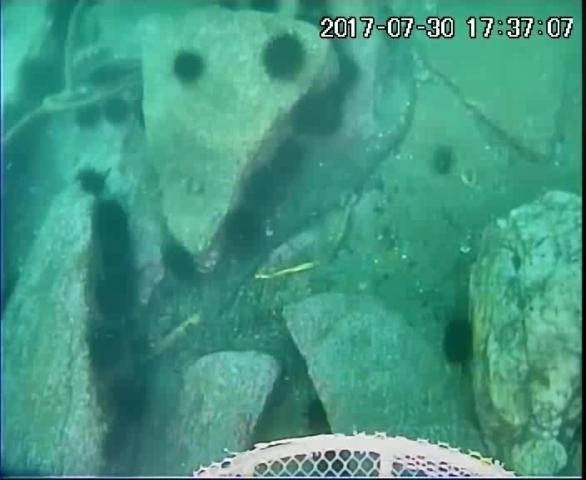echinus: (288, 88, 347, 140), (257, 31, 310, 85), (89, 266, 142, 320), (15, 54, 68, 106), (88, 199, 135, 257), (103, 374, 154, 426), (82, 324, 130, 374), (220, 205, 268, 254), (438, 313, 479, 370), (268, 136, 310, 181), (240, 166, 283, 209), (159, 241, 201, 284), (42, 1, 83, 45), (168, 48, 210, 90), (423, 141, 465, 183), (94, 235, 136, 275), (329, 50, 365, 96), (299, 395, 336, 438), (96, 425, 134, 465), (73, 165, 112, 200), (291, 1, 336, 31), (100, 94, 133, 129), (72, 102, 105, 135), (246, 1, 284, 19)
